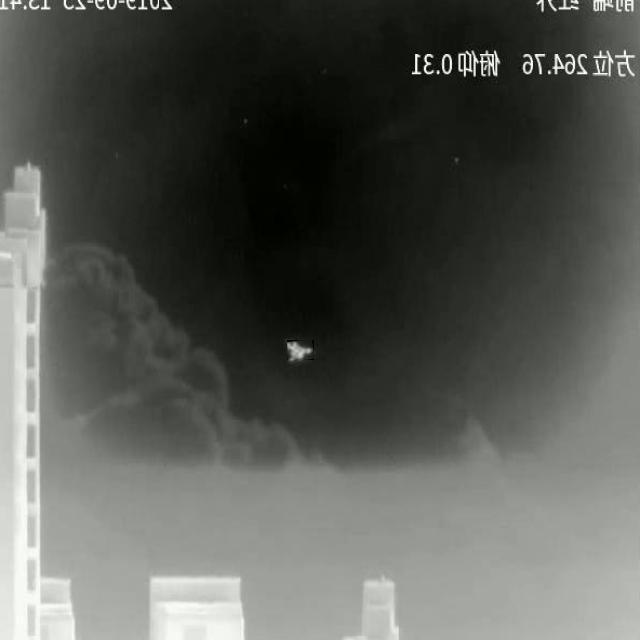drone: (287, 342, 313, 360)
